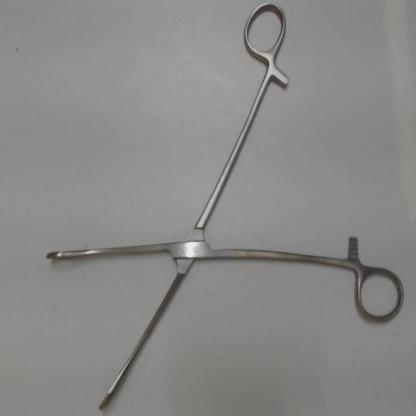Sponge Forceps: (41, 0, 406, 412)
